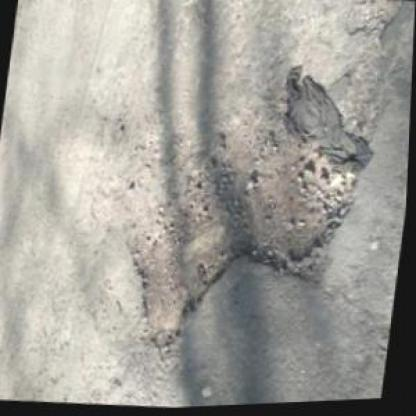pothole: (115, 86, 374, 372)
